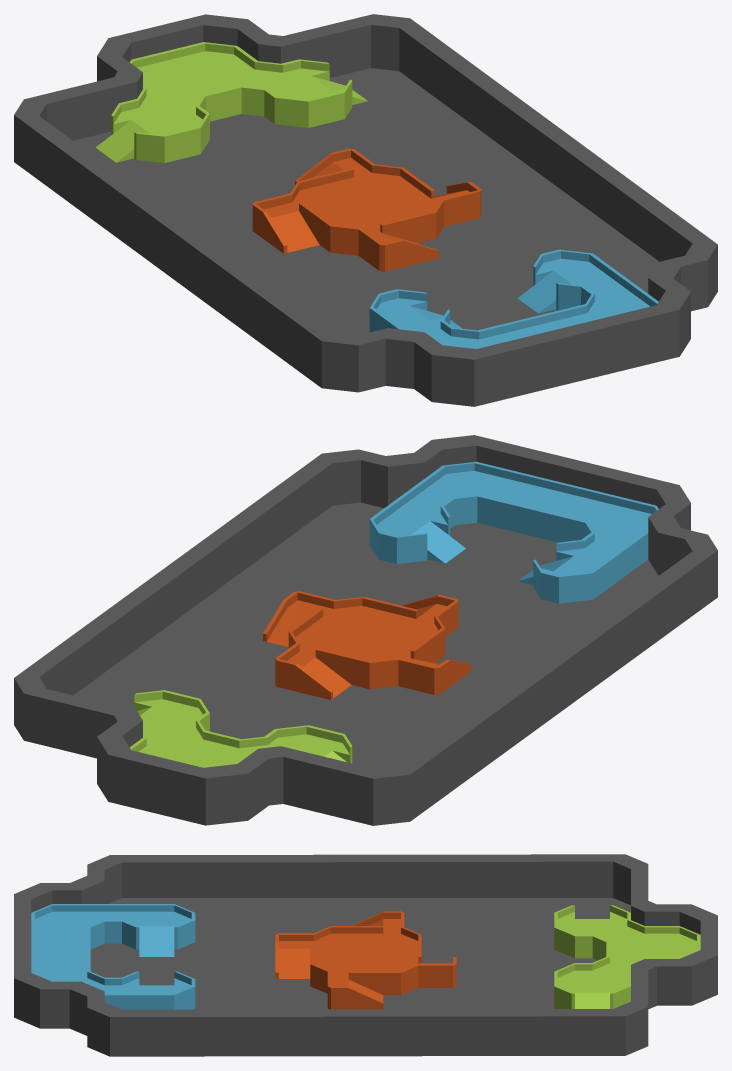
File: map2.fbx
The picture shows the model from 3 angles, top to bottom: view 1: azimuth 30°, elevation 25°; view 2: azimuth 150°, elevation 25°; view 3: azimuth 270°, elevation 25°; orthographic projection. The views are drawn at different scales.
Visible parts, largest first — view 1: Wall, Goal, Jail, Hideout; view 2: Wall, Hideout, Jail, Goal; view 3: Wall, Hideout, Jail, Goal.
Part boxes in pixels (x1,y1,x2,y2): Wall: [14, 14, 717, 406]; Goal: [95, 42, 367, 162]; Jail: [252, 148, 481, 271]; Hideout: [369, 249, 658, 348]; Wall: [14, 435, 717, 825]; Hideout: [369, 461, 658, 603]; Jail: [263, 591, 470, 699]; Goal: [130, 690, 352, 767]; Wall: [14, 854, 717, 1056]; Hideout: [31, 904, 195, 1009]; Jail: [275, 911, 456, 1009]; Goal: [554, 905, 700, 1008].
Bounding box in the file's own units: 2200 × 255 × 4040.
